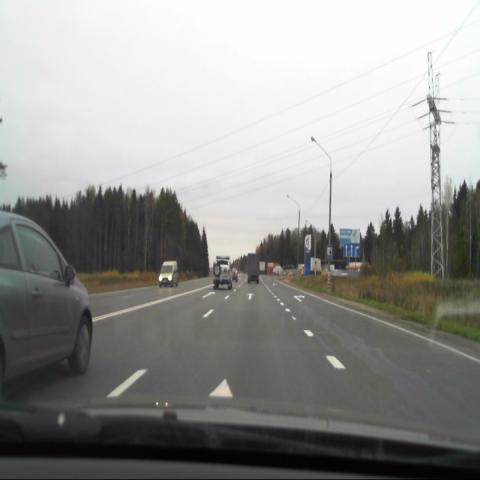5_15_1: (343, 244, 360, 257)
